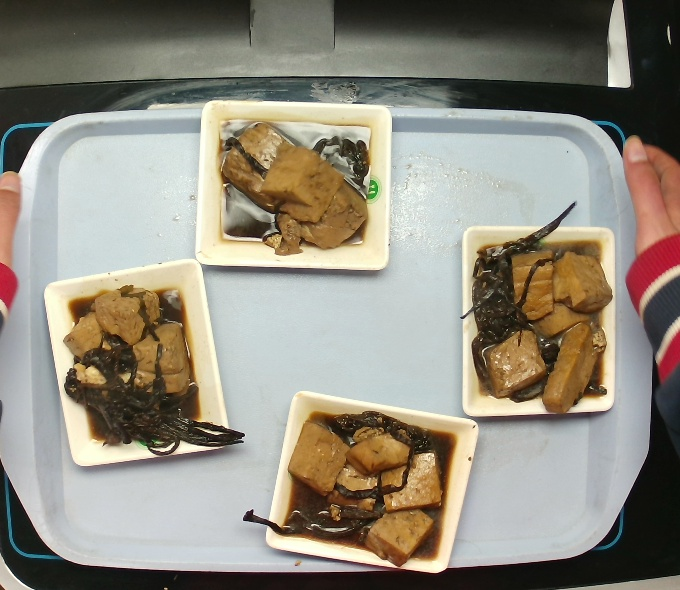wcq-CaiLuDouFu: (58, 274, 235, 458), (456, 217, 615, 421), (273, 402, 445, 569), (205, 108, 379, 265)
